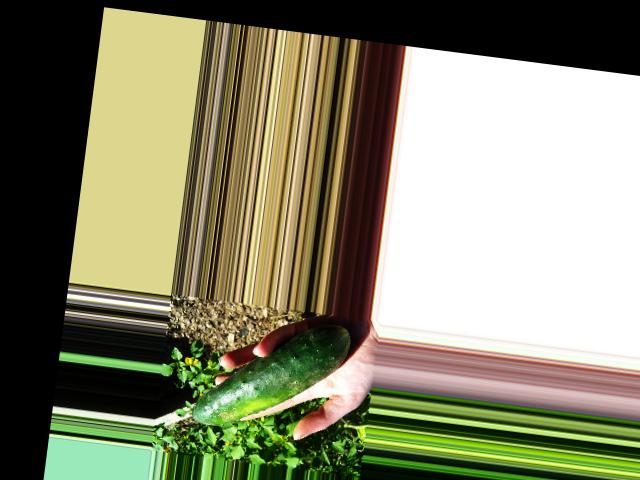cucumber: (190, 308, 351, 440)
